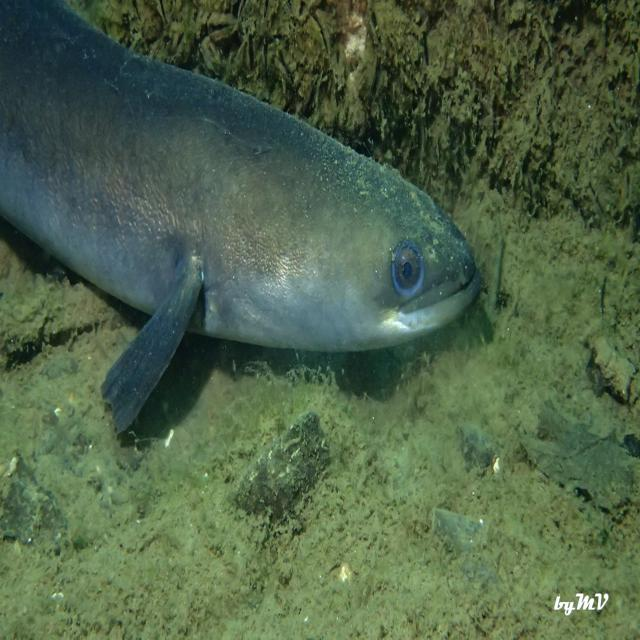Freshwater-Eel: (10, 0, 512, 492)
